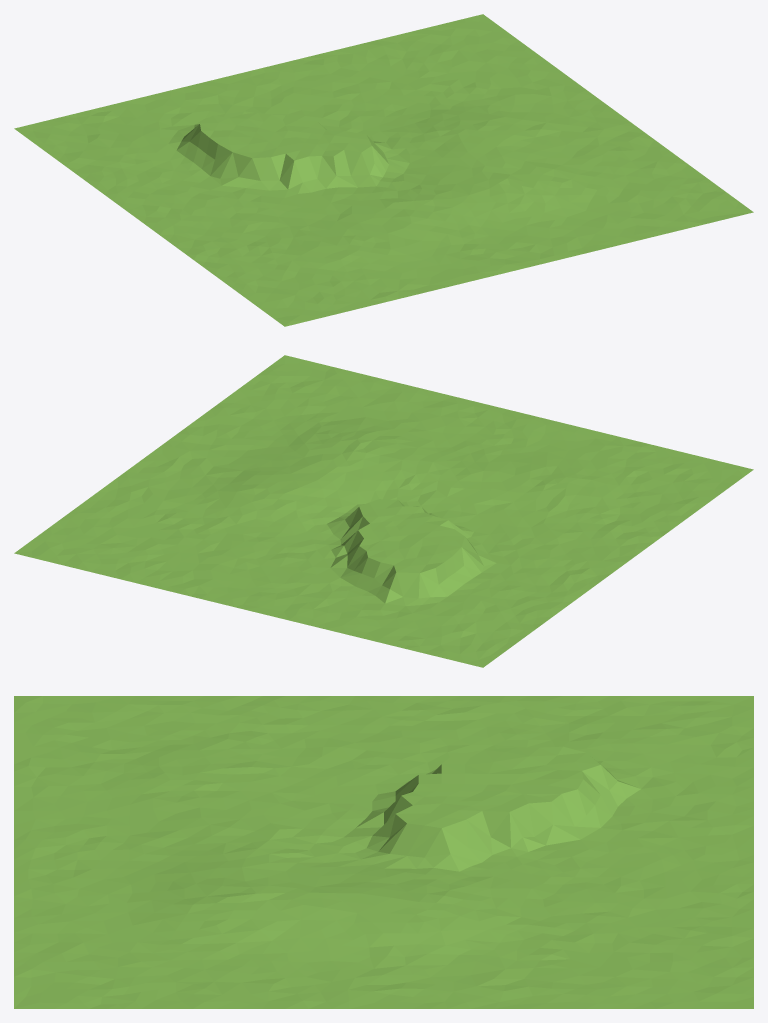
File: MT_Terrain_L_c_11.fbx
3 renders of one model, top to bottom at view 1: azimuth 30°, elevation 25°; view 2: azimuth 150°, elevation 25°; view 3: azimuth 270°, elevation 25°, orthographic. The views are drawn at different scales.
Parts seen in each view (by area): view 1: MT_Terrain_L_c_11; view 2: MT_Terrain_L_c_11; view 3: MT_Terrain_L_c_11.
Part boxes in pixels (bbox=[...]): MT_Terrain_L_c_11: bbox=[14, 14, 753, 326]; MT_Terrain_L_c_11: bbox=[14, 355, 753, 667]; MT_Terrain_L_c_11: bbox=[14, 696, 753, 1008].
Bounding box in the file's own units: 10000 × 421 × 10000.
